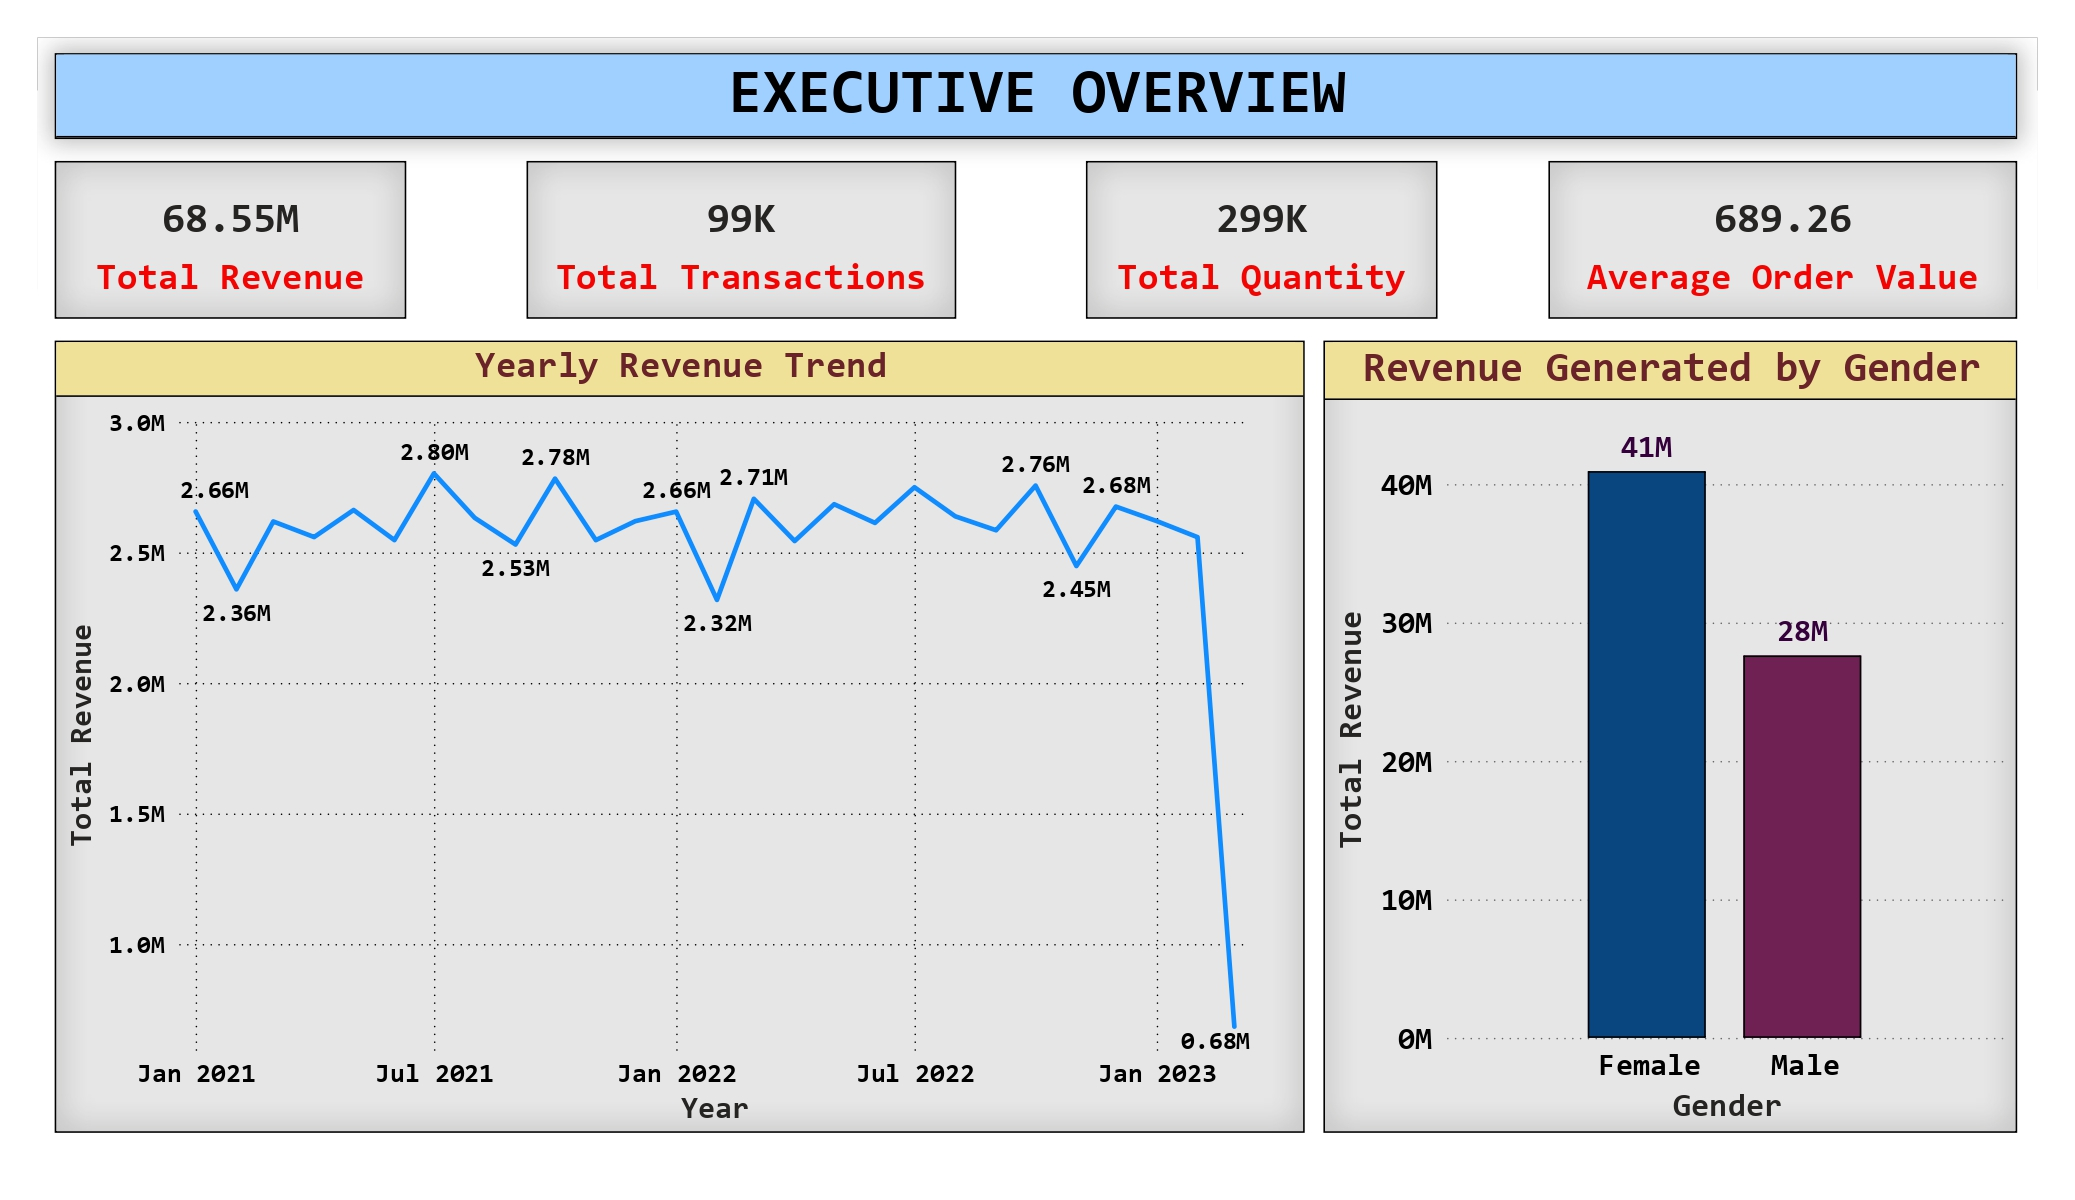

What the dashboard file says about the page in this screenshot:
{"tool":"powerbi","page":{"name":"Dashboard_Executive_Overview","canvas":[1280,720],"ordinal":11},"visuals":[{"type":"card","fields":{"Values":["customer.Total Revenue"]},"box":[11,79.5,225,100.3],"z":0},{"type":"card","fields":{"Values":["customer.Total Transactions"]},"box":[313,79.5,275.1,100.3],"z":1000},{"type":"card","fields":{"Values":["customer.Total Quantity"]},"box":[671.3,79.5,225,100.3],"z":2000},{"type":"card","fields":{"Values":["customer.Average Order Value"]},"box":[967.3,79.5,299.6,100.3],"z":3000},{"type":"lineChart","title":"Yearly Revenue Trend","fields":{"Y":["customer.Total Revenue"],"Category":["customer.invoice_date.Variation.Date Hierarchy.Year","customer.invoice_date.Variation.Date Hierarchy.Month"]},"box":[11,194.4,799.7,506.3],"z":4000},{"type":"clusteredColumnChart","title":"Revenue Generated by Gender","fields":{"Category":["customer.gender"],"Y":["Sum(customer.revenue)"]},"box":[823,194.4,443.9,506.3],"z":5000},{"type":"textbox","title":"EXECUTIVE OVERVIEW","box":[11,9.8,1255.8,55],"z":6000}]}

Visuals, with their boxes on the page's 1280x720 design canvas (x1, y1, x2, y2). These are canvas units, not pixel positions in the 2075x1200 screenshot, which may show the page scaled, cropped or inside an application window:
card - customer.Total Revenue: rect(11, 80, 236, 180)
card - customer.Total Transactions: rect(313, 80, 588, 180)
card - customer.Total Quantity: rect(671, 80, 896, 180)
card - customer.Average Order Value: rect(967, 80, 1267, 180)
"Yearly Revenue Trend" lineChart: rect(11, 194, 811, 701)
"Revenue Generated by Gender" clusteredColumnChart: rect(823, 194, 1267, 701)
"EXECUTIVE OVERVIEW" textbox: rect(11, 10, 1267, 65)
